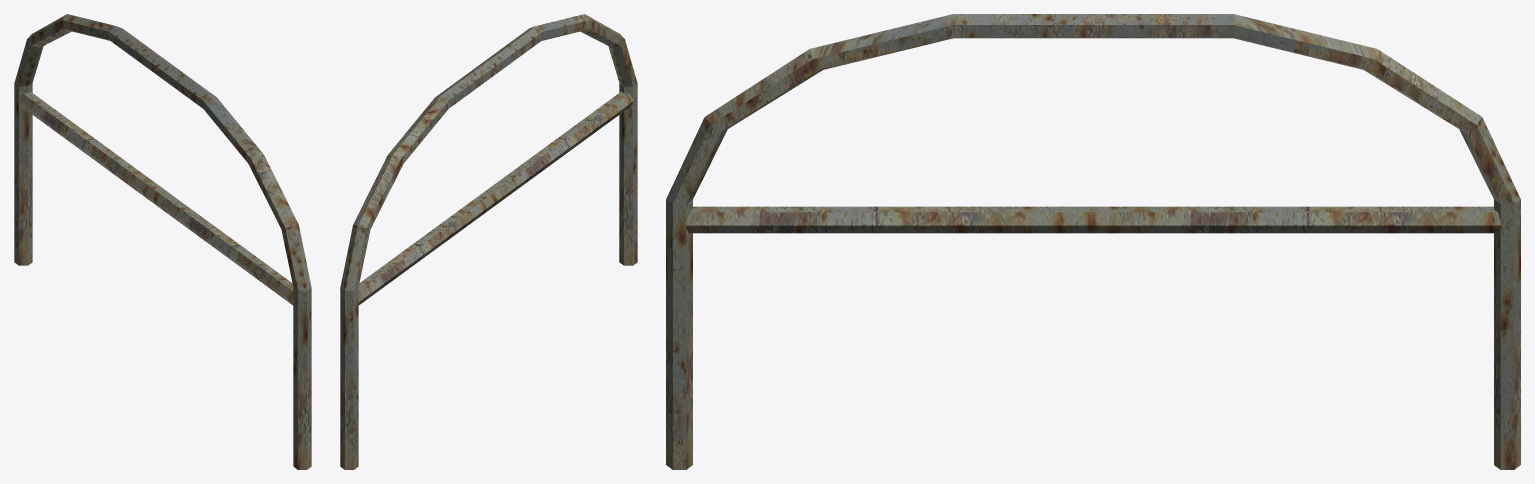
File: rail.fbx
3 renders of one model, left to right at view 1: azimuth 30°, elevation 25°; view 2: azimuth 150°, elevation 25°; view 3: azimuth 270°, elevation 25°, orthographic. The views are drawn at different scales.
Visible parts, largest first — view 1: rail_Layer1; view 2: rail_Layer1; view 3: rail_Layer1.
Boxes of the visible parts, box(x1,y1,x2,y2) form: rail_Layer1: box(14, 14, 311, 469); rail_Layer1: box(340, 14, 637, 469); rail_Layer1: box(666, 14, 1520, 469).
Size of the model in its own units: 4 by 74.03 by 127.
Materials: 1 (1 with a texture image).
